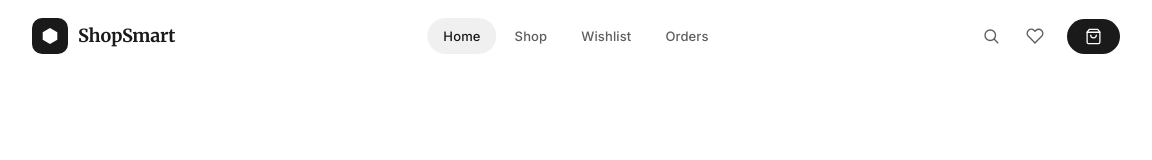
Test case: toggles search open, focuses input, and closes on Escape
Click the button named "Search" at (991, 36), box [971,16,1011,56]
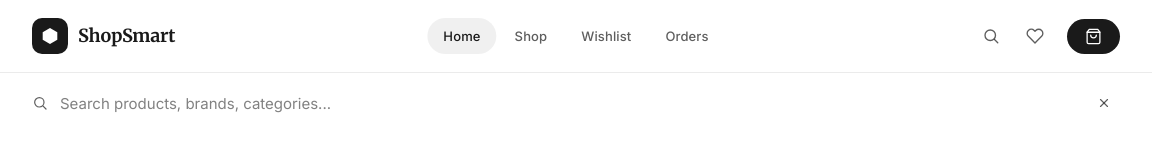
Press Escape in the field with placeholder "Search products, brands, categories...", box [60,94,1076,112]
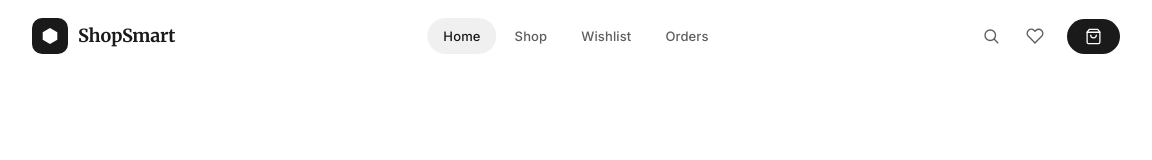
Expected: the element with class "navbar__search--open" is gone
